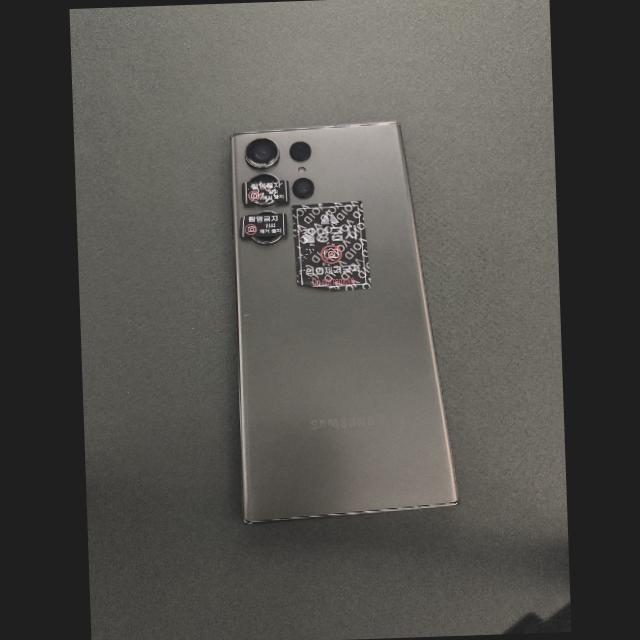lens: (246, 138, 279, 169), (290, 142, 312, 161), (252, 236, 283, 245), (250, 174, 279, 182)
phone: (231, 122, 458, 522)
sticker: (291, 200, 371, 291), (242, 179, 290, 206), (239, 213, 287, 238)
